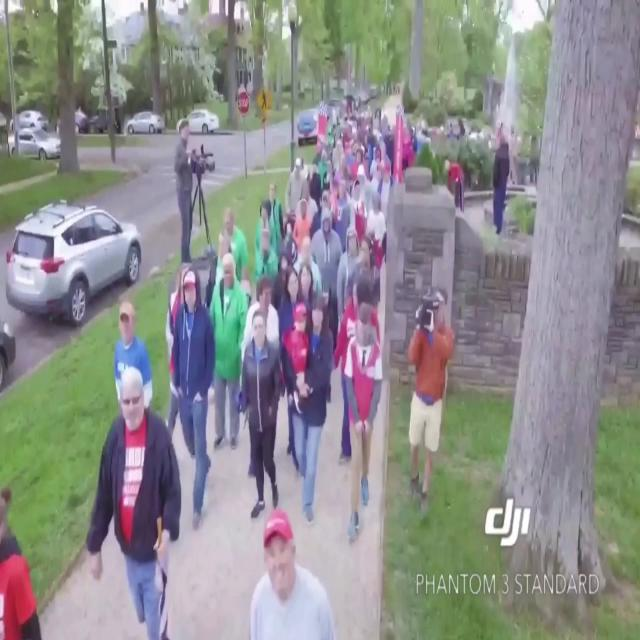body: (278, 79, 540, 194), (86, 364, 182, 640), (245, 503, 339, 639), (404, 280, 456, 522), (172, 264, 216, 529), (287, 292, 335, 530), (342, 298, 384, 548), (239, 308, 282, 520), (208, 253, 246, 452), (171, 264, 204, 472), (0, 486, 39, 640), (278, 264, 305, 457), (114, 299, 154, 417), (310, 207, 340, 356), (335, 274, 358, 466), (240, 275, 280, 368), (282, 300, 310, 420), (173, 117, 193, 266), (322, 268, 381, 312), (336, 226, 362, 325), (348, 235, 381, 310), (205, 228, 233, 310), (492, 126, 510, 236), (252, 226, 276, 308), (376, 160, 394, 268), (291, 234, 323, 294), (223, 207, 248, 281), (253, 198, 274, 282), (285, 155, 307, 233), (279, 220, 301, 298), (331, 179, 351, 254), (268, 180, 284, 272), (297, 263, 317, 336), (364, 190, 387, 249), (274, 252, 292, 322), (295, 178, 319, 228), (443, 158, 465, 212), (351, 178, 368, 247), (292, 198, 312, 252), (312, 185, 334, 234), (283, 220, 299, 268), (258, 90, 268, 111)
